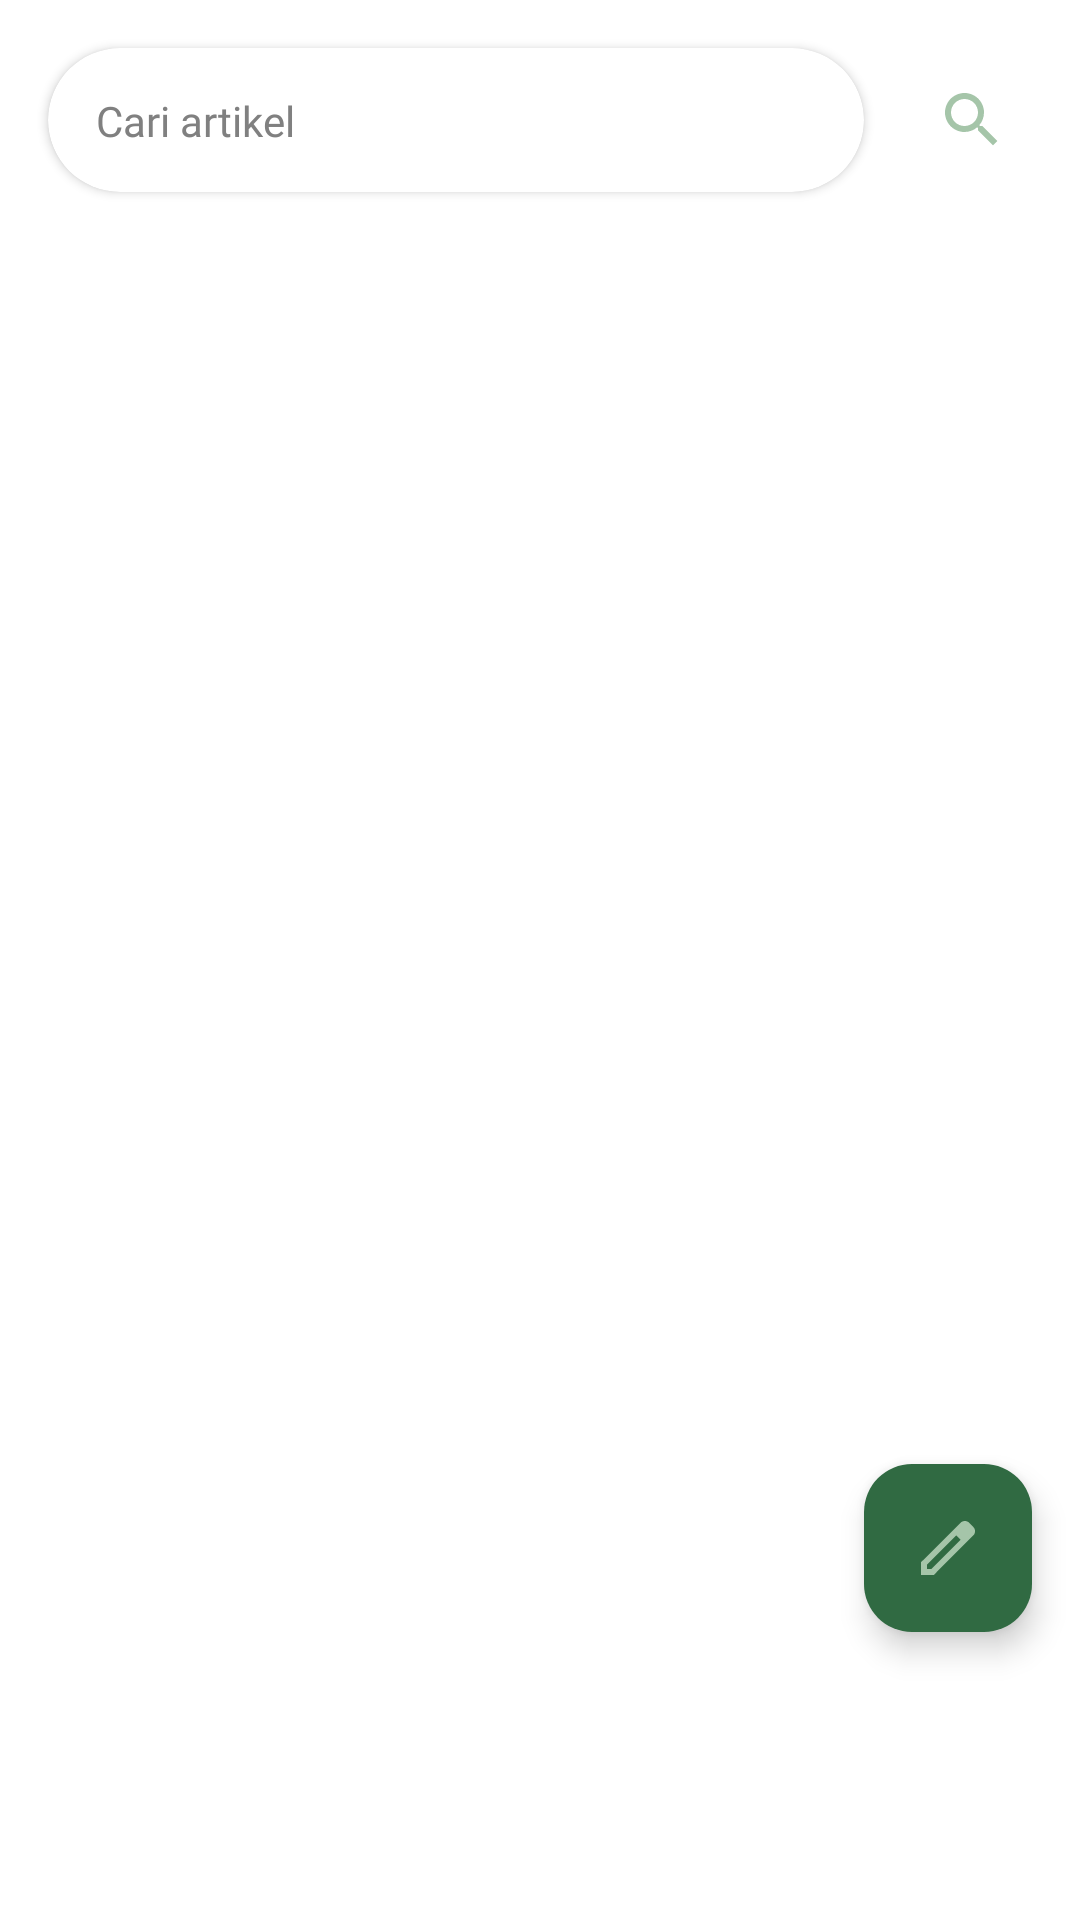

Screen size 1080x1920. Icon name, then its center in pixels as point (x, y):
pen: point (948, 1548)
Search: point (971, 119)
